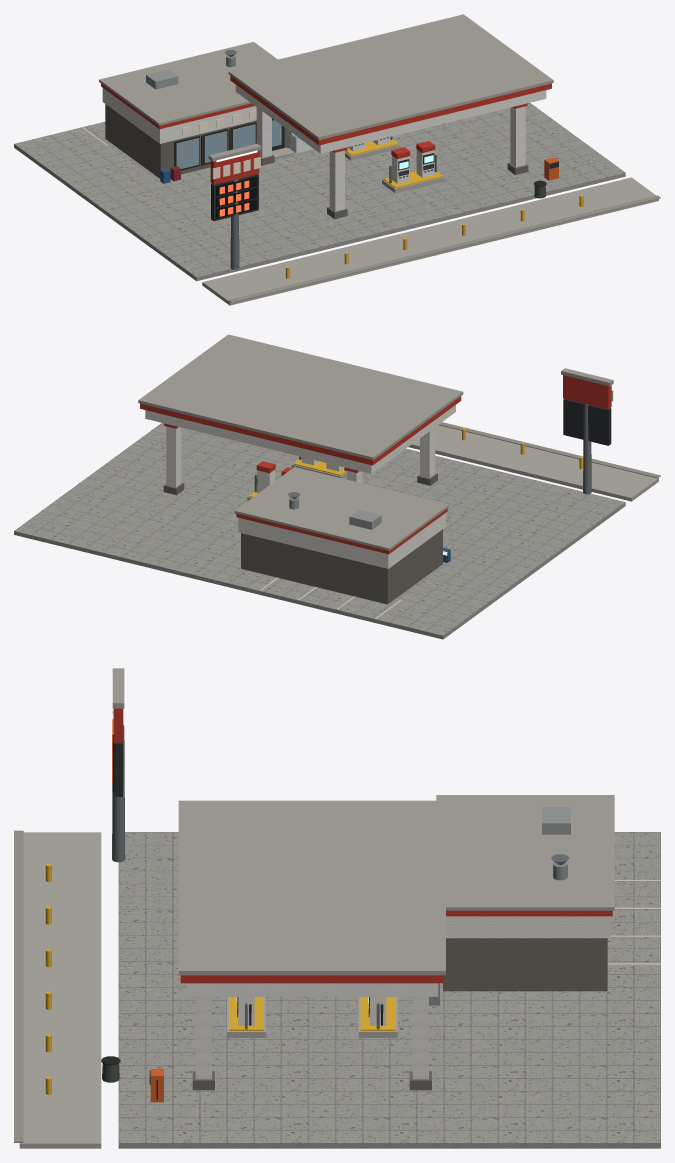
File: jersey_gasstation.glb
The picture shows the model from 3 angles, top to bottom: view 1: azimuth 30°, elevation 25°; view 2: azimuth 150°, elevation 25°; view 3: azimuth 270°, elevation 25°; orthographic projection. The views are drawn at different scales.
Size of the model in its own units: 38 by 10.24 by 33.4.
5 materials, 5 textured.
